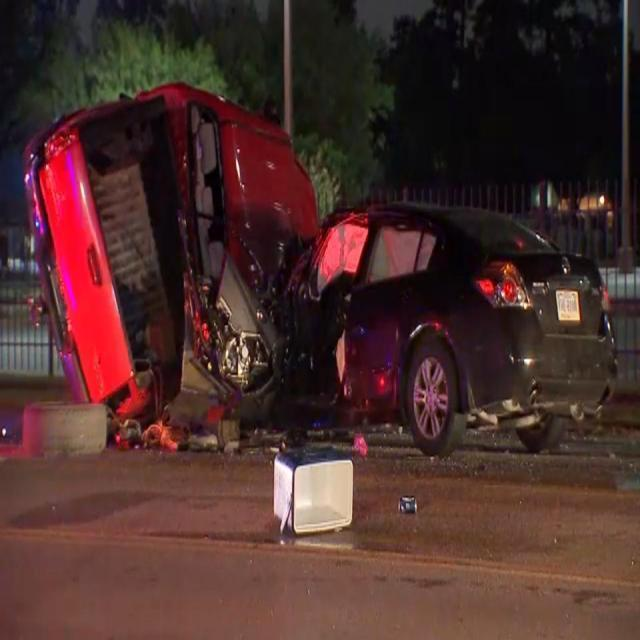multiple_accident: (13, 7, 625, 505)
